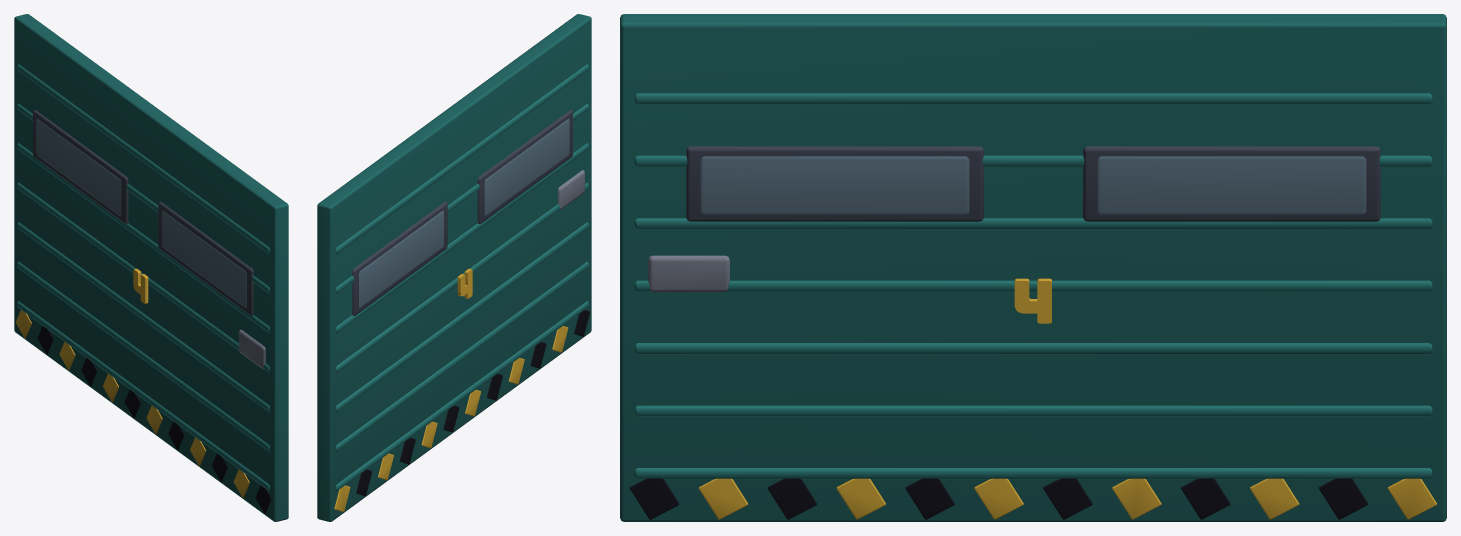
The model's file is SM_Door_Stage4_Panel.fbx.
3 renders of one model, left to right at view 1: azimuth 30°, elevation 25°; view 2: azimuth 150°, elevation 25°; view 3: azimuth 270°, elevation 25°, orthographic. The views are drawn at different scales.
Visible parts, largest first — view 1: SM_Door_Stage4_Panel; view 2: SM_Door_Stage4_Panel; view 3: SM_Door_Stage4_Panel.
Boxes of the visible parts, x1,y1,x2,y2 form: SM_Door_Stage4_Panel: (14,14,288,521); SM_Door_Stage4_Panel: (317,14,591,521); SM_Door_Stage4_Panel: (620,14,1446,521).
Bounding box in the file's own units: 32.17 × 400 × 600.
